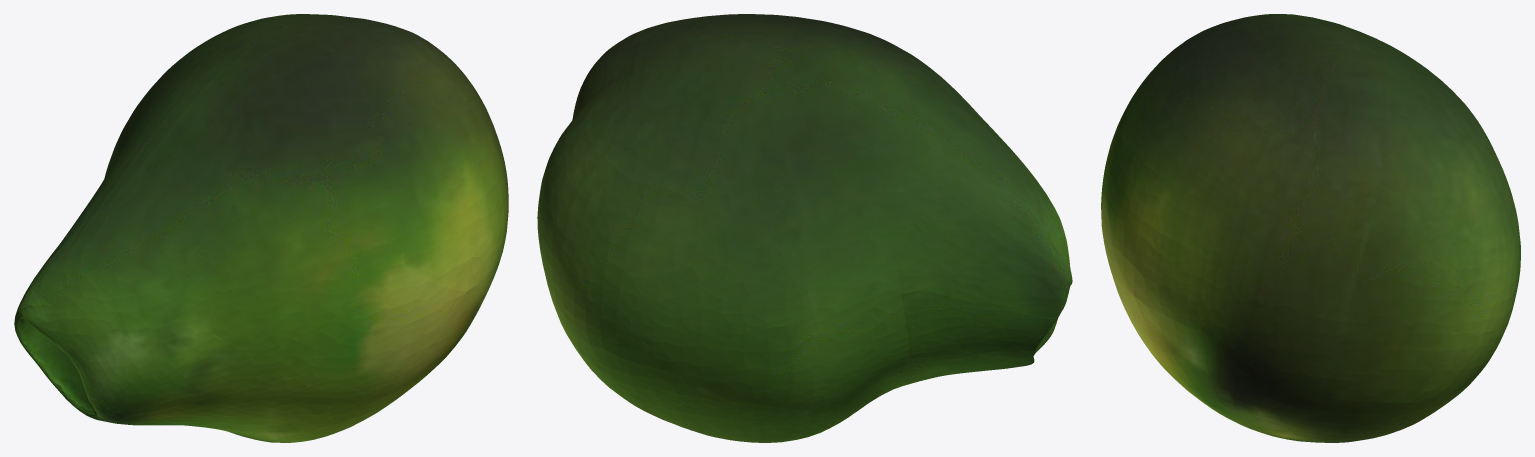
File: large_green_pear_in_the_foreground_right_000.glb
The picture shows the model from 3 angles, left to right: view 1: azimuth 30°, elevation 25°; view 2: azimuth 150°, elevation 25°; view 3: azimuth 270°, elevation 25°; orthographic projection.
Parts seen in each view (by area): view 1: large_green_pear_in_the_foreground_right_000.obj; view 2: large_green_pear_in_the_foreground_right_000.obj; view 3: large_green_pear_in_the_foreground_right_000.obj.
Boxes of the visible parts, bbox=[...] form: large_green_pear_in_the_foreground_right_000.obj: bbox=[14, 14, 508, 442]; large_green_pear_in_the_foreground_right_000.obj: bbox=[537, 14, 1072, 442]; large_green_pear_in_the_foreground_right_000.obj: bbox=[1101, 14, 1520, 442].
Bounding box in the file's own units: 0.2849 × 0.2231 × 0.217.
Materials: 1 (1 with a texture image).
